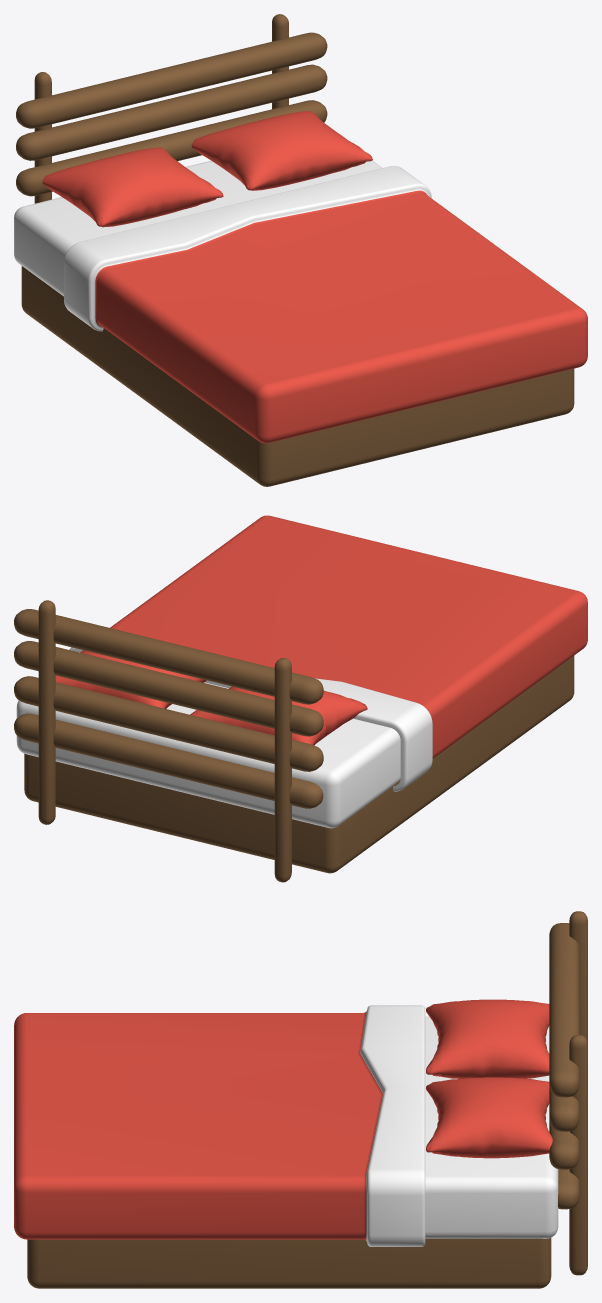
File: Bed-2.fbx
The picture shows the model from 3 angles, top to bottom: view 1: azimuth 30°, elevation 25°; view 2: azimuth 150°, elevation 25°; view 3: azimuth 270°, elevation 25°; orthographic projection. The views are drawn at different scales.
Parts seen in each view (by area): view 1: Cube.002, Cube, Cube.004, Cube.003, Plane.002, Plane.001, Cube.001, Cube.005, Cube.007, Cube.008; view 2: Cube.002, Cube, Cube.001, Cube.005, Cube.004, Cube.003, Cube.006, Cube.007, Cube.008, Plane.001, Plane.002; view 3: Cube.002, Cube, Cube.001, Plane.002, Plane.001, Cube.004, Cube.008, Cube.007, Cube.005, Cube.003, Cube.006.
Part boxes in pixels (box(x1,y1,x2,y2)): Cube.002: box(64, 166, 587, 443); Cube: box(21, 266, 574, 486); Cube.004: box(16, 32, 327, 128); Cube.003: box(16, 64, 327, 160); Plane.002: box(191, 111, 372, 190); Plane.001: box(42, 147, 223, 227); Cube.001: box(14, 160, 382, 296); Cube.005: box(16, 100, 327, 196); Cube.007: box(34, 72, 51, 203); Cube.008: box(272, 14, 288, 109); Cube.002: box(69, 515, 587, 791); Cube: box(24, 655, 574, 873); Cube.001: box(16, 682, 400, 828); Cube.005: box(14, 676, 323, 771); Cube.004: box(14, 609, 323, 704); Cube.003: box(14, 641, 323, 736); Cube.006: box(14, 713, 323, 808); Cube.007: box(274, 658, 291, 882); Cube.008: box(38, 600, 55, 824); Plane.001: box(190, 686, 367, 745); Plane.002: box(55, 650, 206, 708); Cube.002: box(14, 1005, 425, 1246); Cube: box(27, 1238, 551, 1288); Cube.001: box(425, 1016, 558, 1238); Plane.002: box(426, 1077, 552, 1158); Plane.001: box(426, 999, 549, 1078); Cube.004: box(549, 923, 579, 1097); Cube.008: box(569, 1035, 587, 1275); Cube.007: box(569, 911, 587, 1042); Cube.005: box(549, 1121, 579, 1169); Cube.003: box(549, 1086, 579, 1131); Cube.006: box(558, 1169, 579, 1209).
Size of the model in its own units: 2.79 by 1.73 by 3.78.
